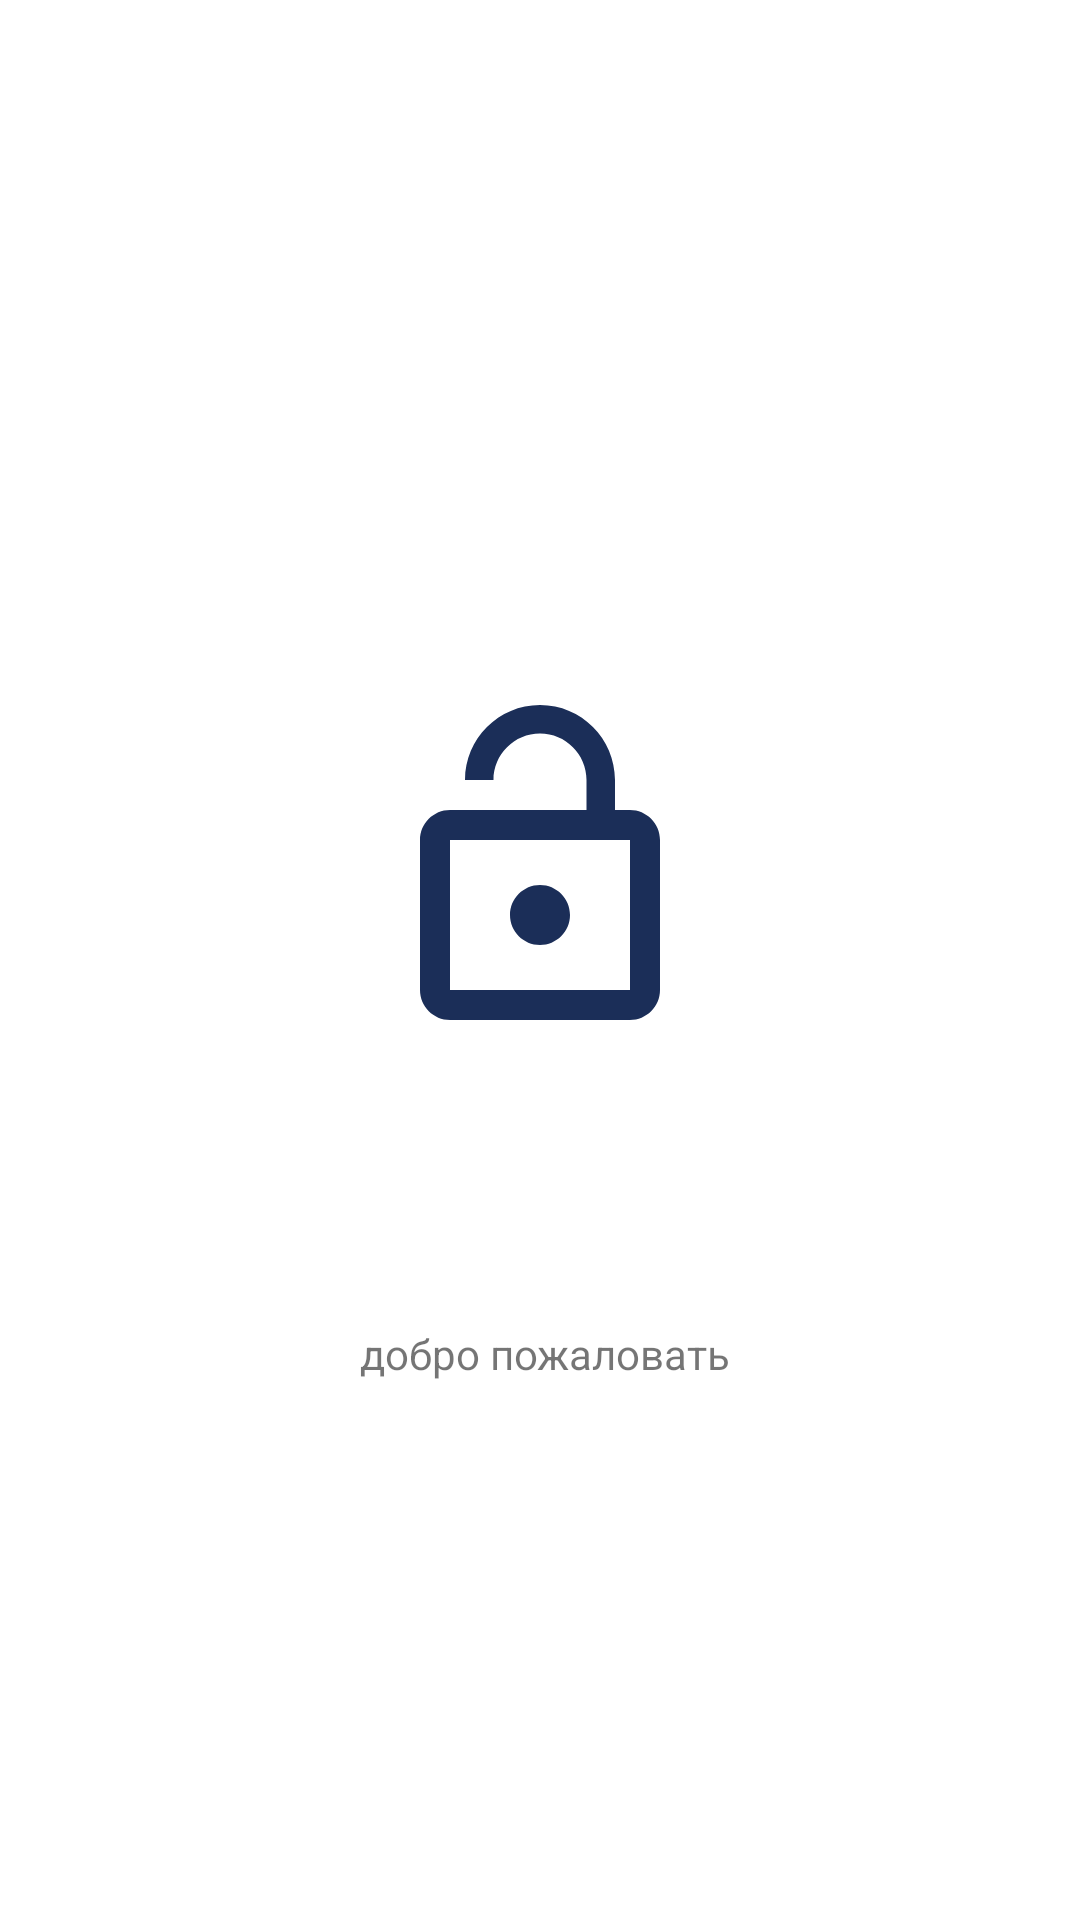

Icons on this 1080px x 1920px Android screen, each with the point to tap as point (x, y):
lock open: point (540, 862)
